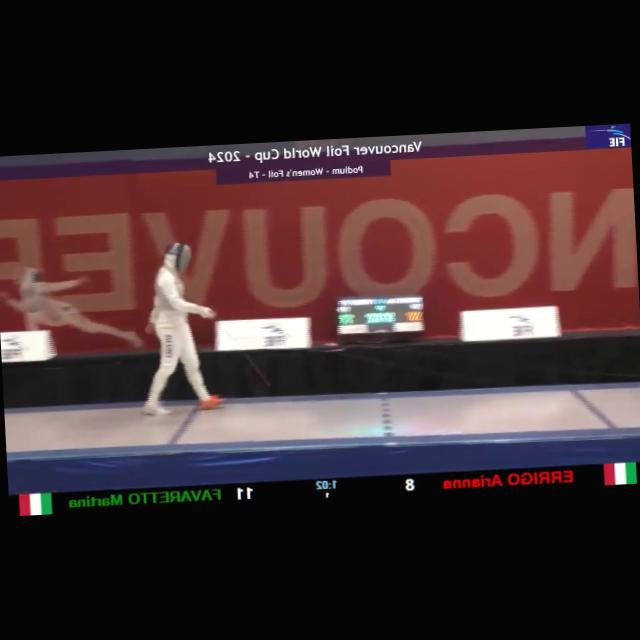blade: (206, 304, 271, 391)
